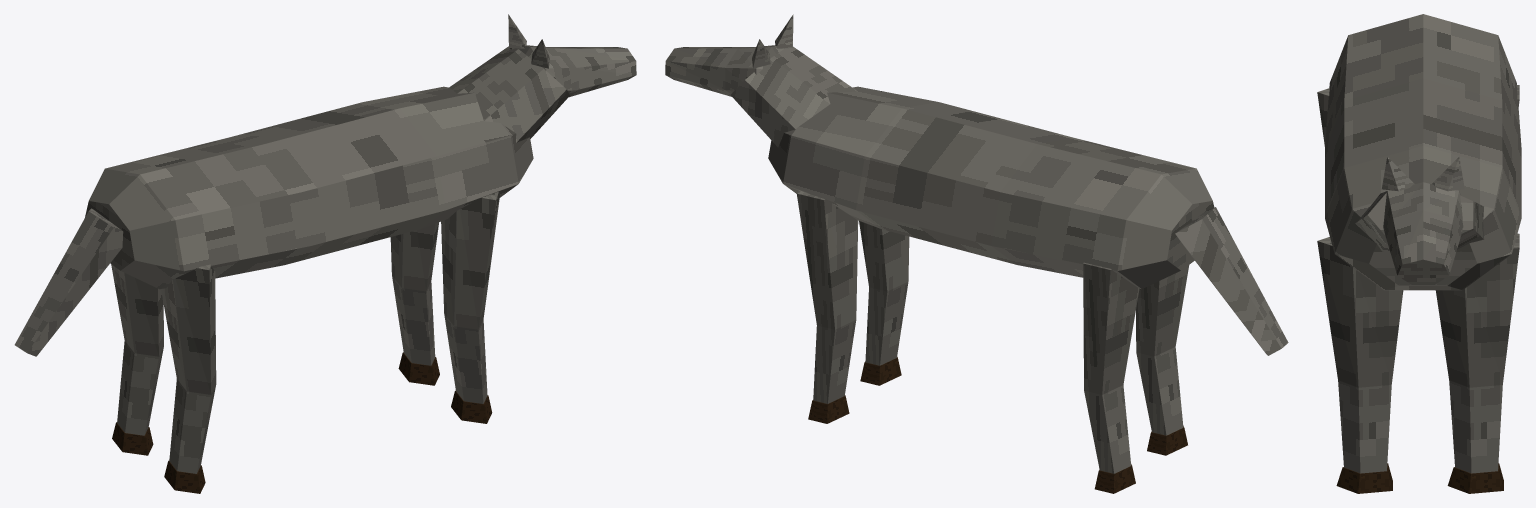
File: coyote.glb
3 renders of one model, left to right at view 1: azimuth 30°, elevation 25°; view 2: azimuth 150°, elevation 25°; view 3: azimuth 270°, elevation 25°, orthographic. The views are drawn at different scales.
Parts seen in each view (by area): view 1: cuerpo, pata_delantera_der, pata_trasera_der, pata_trasera_izq, cuello, cola, pata_delantera_izq, cabeza, pezuna_delantera_izq, pezuna_delantera_der, pezuna_trasera_izq, pezuna_trasera_der (+1 smaller); view 2: cuerpo, pata_delantera_izq, pata_trasera_izq, pata_trasera_der, cuello, cola, pata_delantera_der, cabeza, pezuna_delantera_der, pezuna_trasera_izq, pezuna_trasera_der, pezuna_delantera_izq (+1 smaller); view 3: cuerpo, pata_delantera_der, pata_delantera_izq, cabeza, cuello, orejas, pezuna_delantera_izq, pezuna_delantera_der, pata_trasera_der.
Boxes of the visible parts, x1,y1,x2,y2 form: cuerpo: (85,86,533,289); pata_delantera_der: (441,191,500,403); pata_trasera_der: (161,264,216,473); pata_trasera_izq: (111,264,163,435); cuello: (449,46,569,142); cola: (14,208,123,356); pata_delantera_izq: (390,222,438,365); cabeza: (509,45,636,97); pezuna_delantera_izq: (398,352,439,385); pezuna_delantera_der: (451,390,492,423); pezuna_trasera_izq: (112,422,153,455); pezuna_trasera_der: (164,460,205,493); cuerpo: (768,86,1214,288); pata_delantera_izq: (796,190,858,403); pata_trasera_izq: (1083,262,1139,473); pata_trasera_der: (1136,265,1189,435); cuello: (731,46,857,147); cola: (1175,207,1288,355); pata_delantera_der: (859,221,909,365); cabeza: (665,45,784,96); pezuna_delantera_der: (860,357,901,385); pezuna_trasera_izq: (1094,464,1135,493); pezuna_trasera_der: (1147,426,1187,455); pezuna_delantera_izq: (808,395,849,423); cuerpo: (1325,14,1521,290); pata_delantera_der: (1317,237,1403,473); pata_delantera_izq: (1435,233,1519,473); cabeza: (1383,182,1463,284); cuello: (1355,191,1484,252); orejas: (1382,157,1464,191); pezuna_delantera_izq: (1447,463,1503,493); pezuna_delantera_der: (1336,463,1392,493); pata_trasera_der: (1317,88,1329,146).
Size of the model in its own units: 1.1 by 0.6 by 0.3.
1 material, 1 textured.
